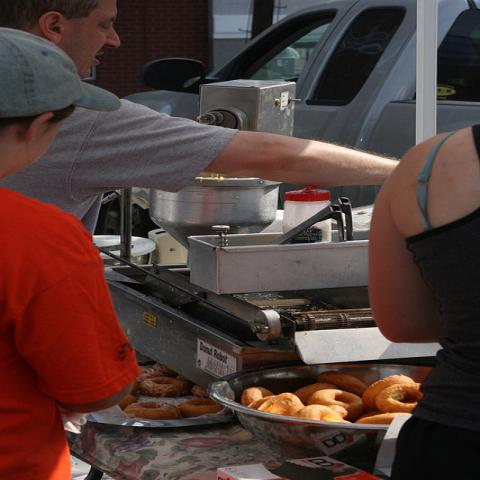car: (121, 0, 479, 162)
truck: (125, 2, 476, 159)
